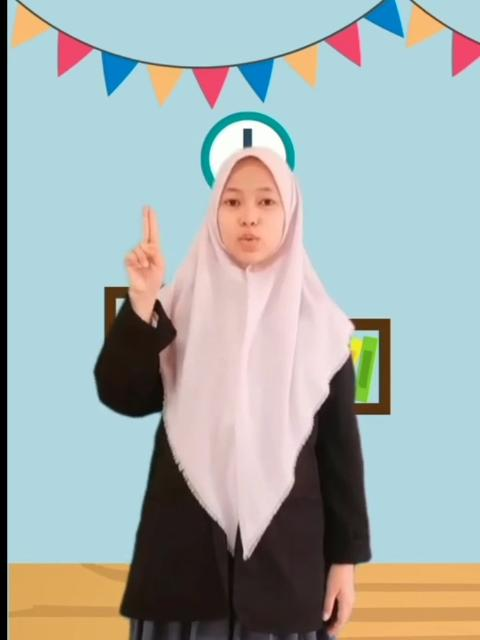U: (123, 198, 171, 296)
